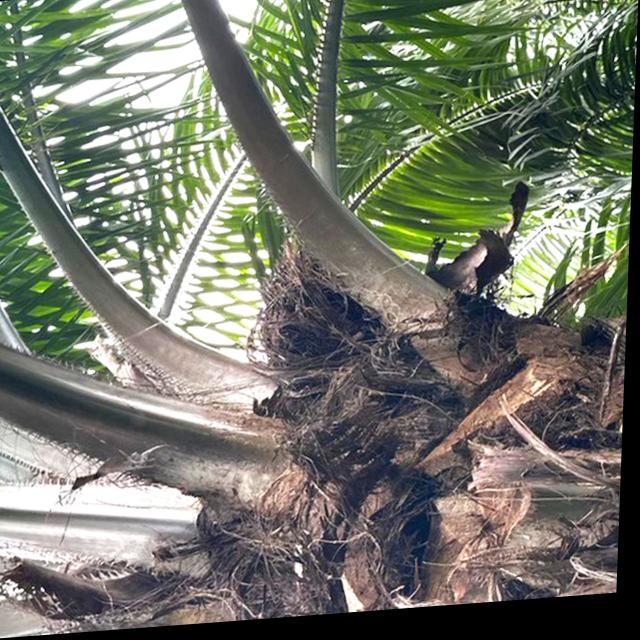unripe: (250, 237, 380, 373)
